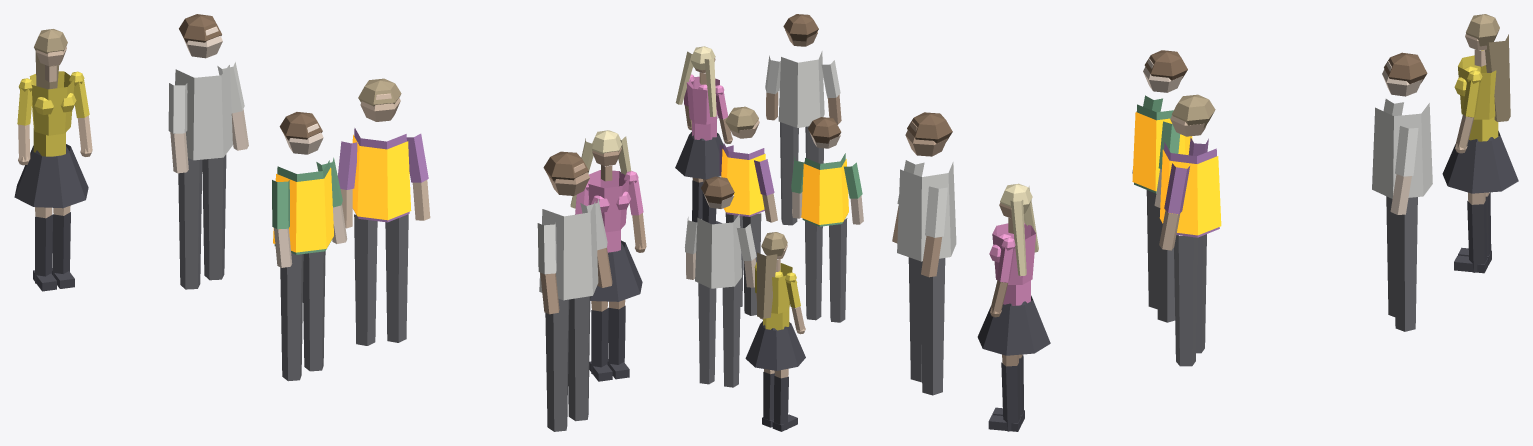
The model's file is crowd_staff_group.glb.
3 views of the same model, side by side, from view 1: azimuth 30°, elevation 25°; view 2: azimuth 150°, elevation 25°; view 3: azimuth 270°, elevation 25° (orthographic). The views are drawn at different scales.
Parts seen in each view (by area): view 1: crowd_staff_group; view 2: crowd_staff_group; view 3: crowd_staff_group.
Part boxes in pixels (x1=…): crowd_staff_group: x1=14, y1=14, x2=646, y2=431; crowd_staff_group: x1=675, y1=14, x2=863, y2=431; crowd_staff_group: x1=892, y1=14, x2=1518, y2=431.
Size of the model in its own units: 2.77 by 1.82 by 3.82.
